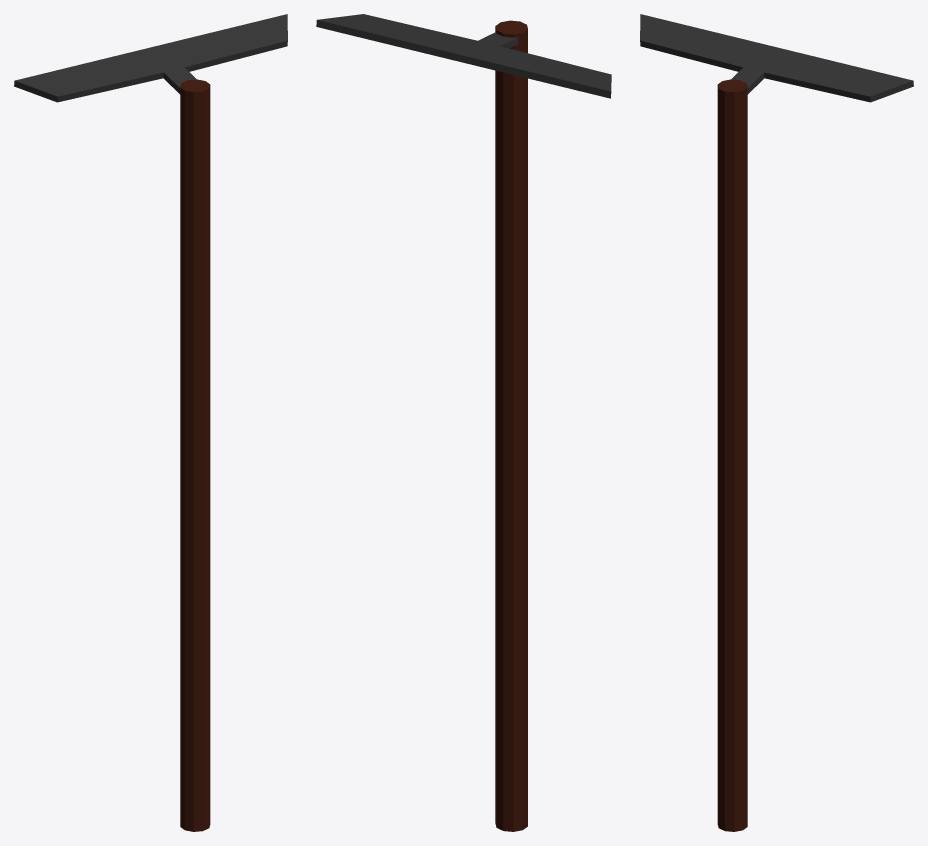
File: hoe.fbx
3 views of the same model, side by side, from view 1: azimuth 30°, elevation 25°; view 2: azimuth 150°, elevation 25°; view 3: azimuth 330°, elevation 25° (orthographic). The views are drawn at different scales.
Parts seen in each view (by area): view 1: Hoe; view 2: Hoe; view 3: Hoe.
Boxes of the visible parts, <box> form: Hoe: <box>14,14,287,831</box>; Hoe: <box>316,14,611,831</box>; Hoe: <box>640,14,913,831</box>.
Size of the model in its own units: 15.02 by 39.19 by 4.99.
